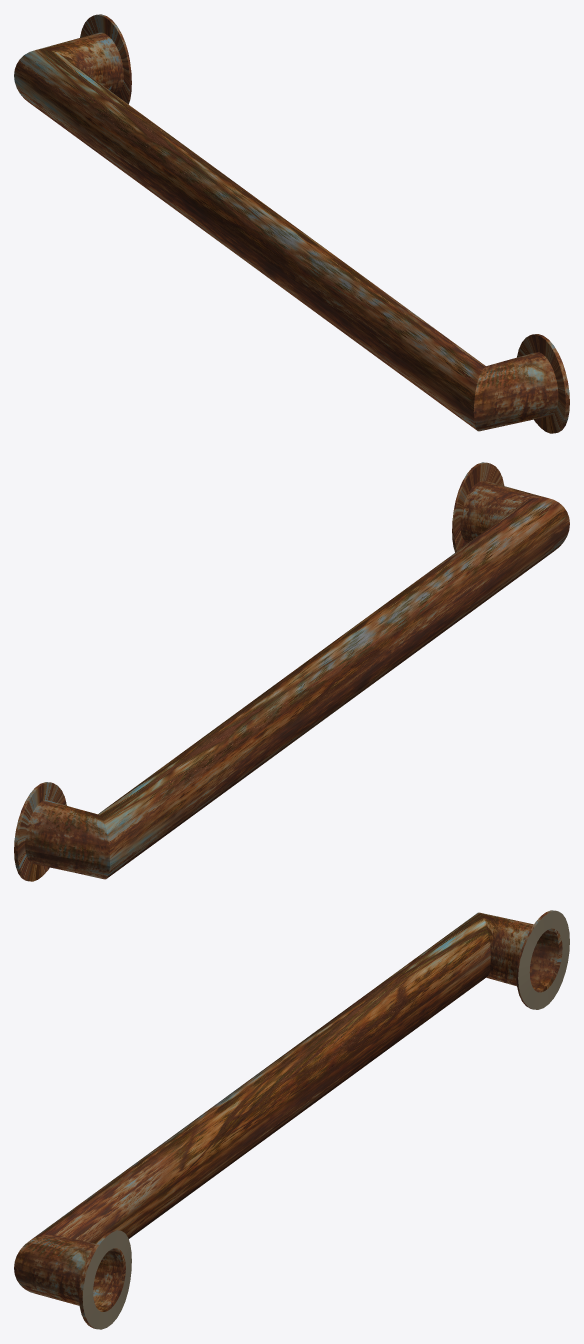
The model's file is pipa.glb.
3 renders of one model, top to bottom at view 1: azimuth 30°, elevation 25°; view 2: azimuth 150°, elevation 25°; view 3: azimuth 330°, elevation 25°, orthographic.
Visible parts, largest first — view 1: Cube; view 2: Cube; view 3: Cube.
Boxes of the visible parts, <box> form: Cube: <box>14,14,569,433</box>; Cube: <box>14,462,569,881</box>; Cube: <box>14,910,569,1329</box>.
Size of the model in its own units: 1.33 by 1.39 by 13.38.
1 material, 1 textured.
